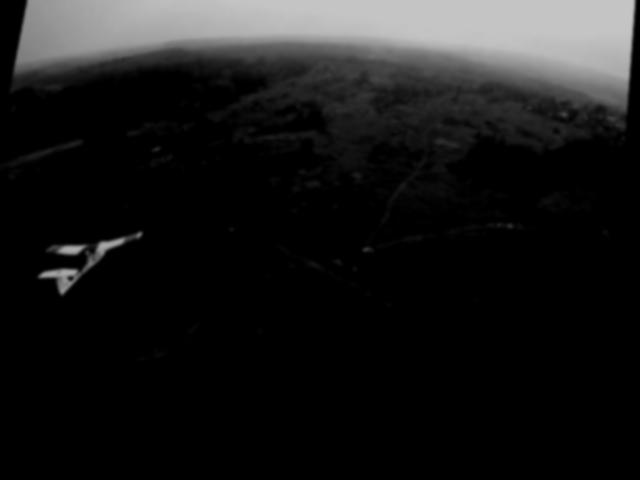hedef: (24, 215, 157, 321)
